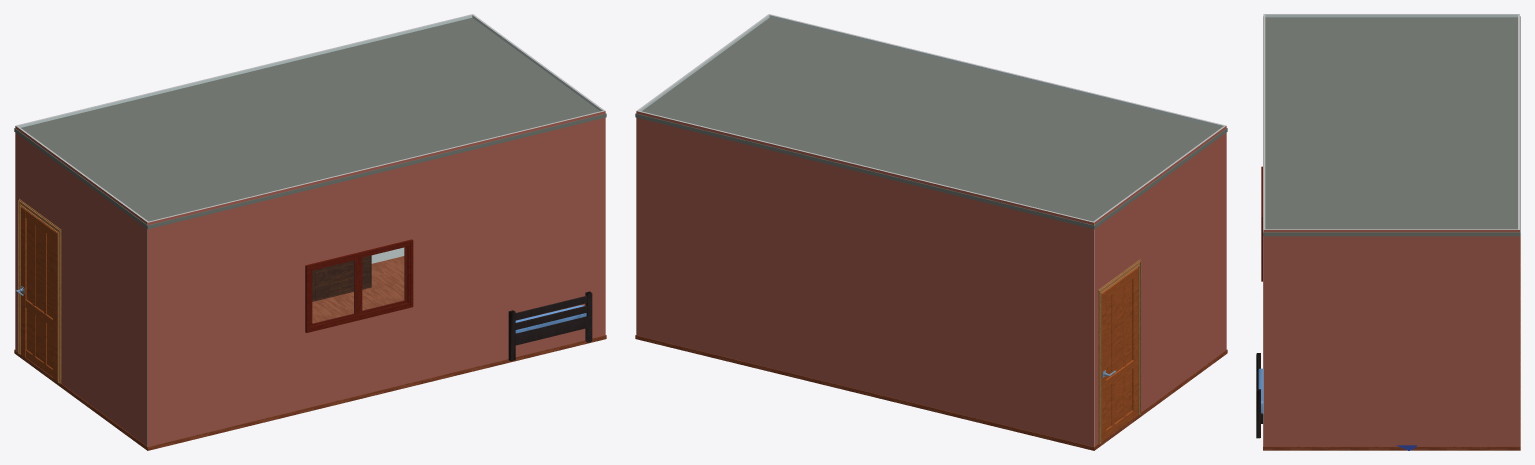
The model's file is ProcTHOR-Train-181.glb.
3 renders of one model, left to right at view 1: azimuth 30°, elevation 25°; view 2: azimuth 150°, elevation 25°; view 3: azimuth 270°, elevation 25°, orthographic. The views are drawn at different scales.
Parts seen in each view (by area): view 1: WallInside#wall|exterior|0.00|3.26|6.52|3.26, Ceiling#room|2|c, WallInside#wall|exterior|6.52|0.00|6.52|3.26, Doorway_10, Floor#room|2|f, Window_Slider_60x36, Bed_20, WallInside#wall|2|0.00|0.00|6.52|0.00, Dresser_315_1; view 2: WallInside#wall|exterior|0.00|0.00|6.52|0.00, Ceiling#room|2|c, WallInside#wall|exterior|6.52|0.00|6.52|3.26, Doorway_10, Floor#room|2|f, WallInside#wall|2|0.00|3.26|6.52|3.26; view 3: Ceiling#room|2|c, WallInside#wall|exterior|0.00|0.00|0.00|3.26, Floor#room|2|f, WallInside#wall|2|6.52|0.00|6.52|3.26, Bed_20, WallInside#wall|exterior|0.00|3.26|6.52|3.26, WallInside#wall|2|0.00|3.26|6.52|3.26, Window_Slider_60x36.
Part boxes in pixels (x1,y1,x2,y2): WallInside#wall|exterior|0.00|3.26|6.52|3.26: (148, 111, 605, 446); Ceiling#room|2|c: (14, 17, 606, 229); WallInside#wall|exterior|6.52|0.00|6.52|3.26: (15, 125, 148, 446); Doorway_10: (15, 199, 61, 383); Floor#room|2|f: (14, 256, 606, 450); Window_Slider_60x36: (305, 239, 413, 332); Bed_20: (508, 291, 592, 361); WallInside#wall|2|0.00|0.00|6.52|0.00: (16, 14, 473, 263); Dresser_315_1: (312, 255, 371, 301); WallInside#wall|exterior|0.00|0.00|6.52|0.00: (636, 111, 1093, 446); Ceiling#room|2|c: (635, 17, 1227, 229); WallInside#wall|exterior|6.52|0.00|6.52|3.26: (1094, 125, 1226, 446); Doorway_10: (1098, 259, 1141, 444); Floor#room|2|f: (635, 335, 1227, 450); WallInside#wall|2|0.00|3.26|6.52|3.26: (768, 14, 1224, 127); Ceiling#room|2|c: (1263, 16, 1520, 236); WallInside#wall|exterior|0.00|0.00|0.00|3.26: (1263, 229, 1519, 446); Floor#room|2|f: (1263, 236, 1520, 450); WallInside#wall|2|6.52|0.00|6.52|3.26: (1265, 14, 1519, 17); Bed_20: (1256, 353, 1417, 450); WallInside#wall|exterior|0.00|3.26|6.52|3.26: (1263, 14, 1264, 446); WallInside#wall|2|0.00|3.26|6.52|3.26: (1264, 14, 1265, 229); Window_Slider_60x36: (1261, 166, 1263, 281).
Size of the model in its own units: 6.83 by 3.11 by 3.38.
57 materials, 23 textured.
